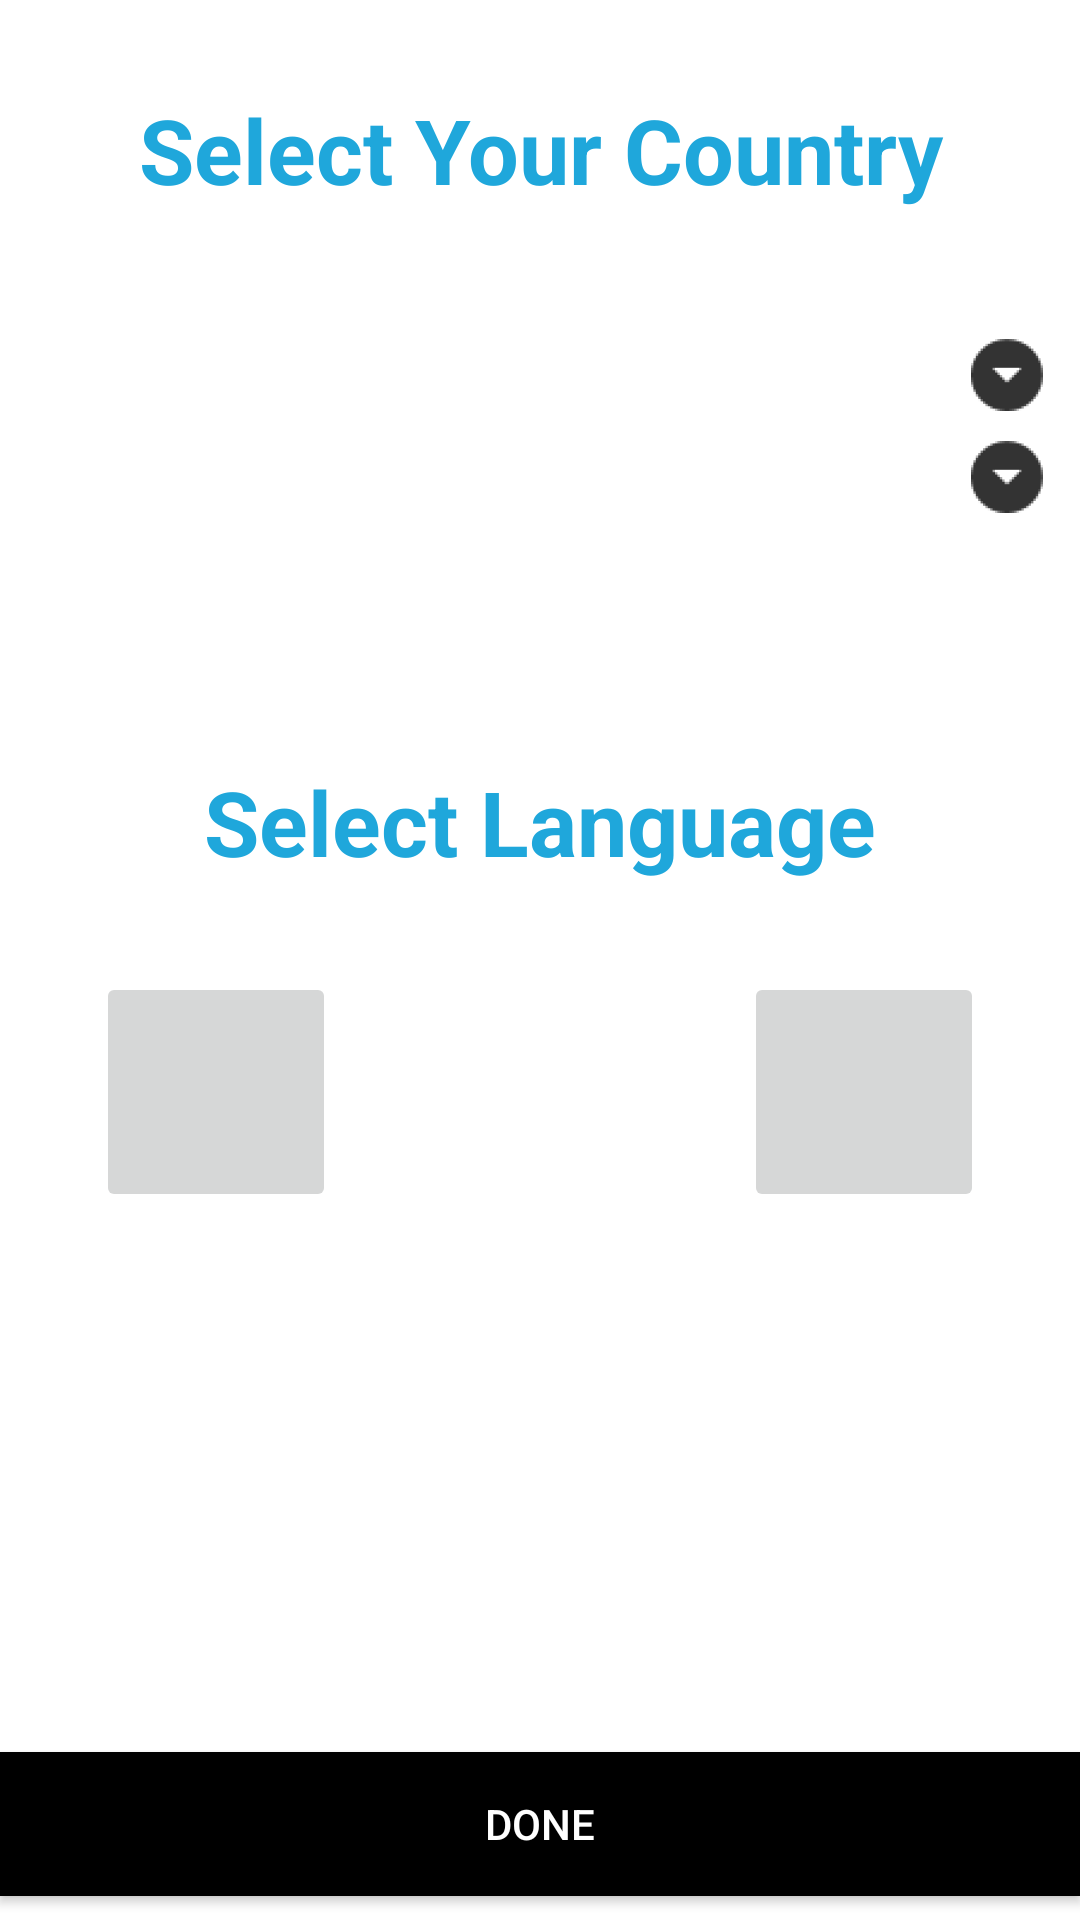

Where icons sit on this 1080×1920 app screen, as BBox(x1, y1, x2, y2):
dropdown: BBox(971, 339, 1043, 411), BBox(971, 441, 1043, 513)
